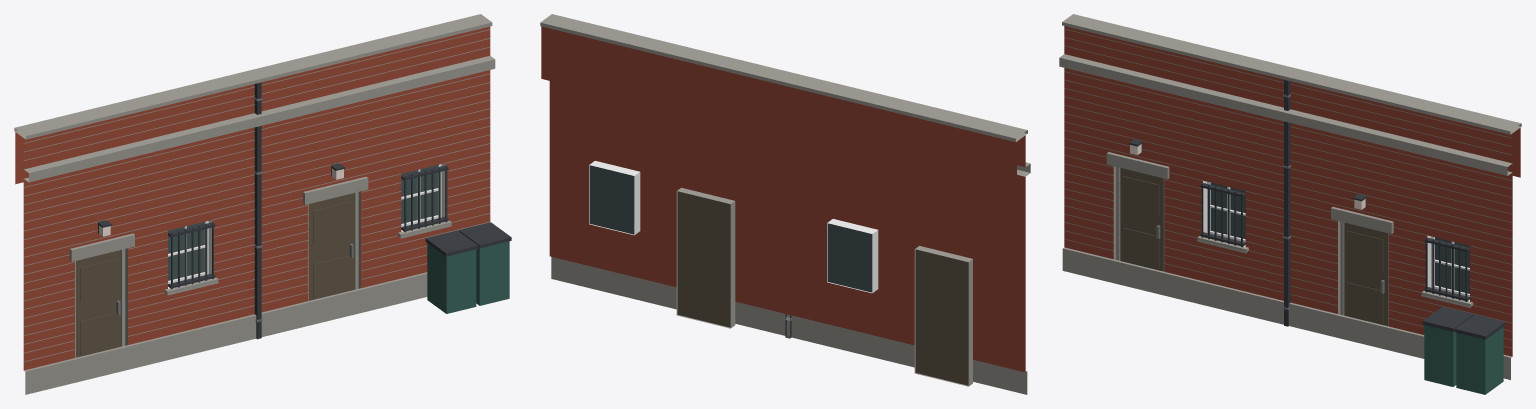
The model's file is base-w3_close.fbx.
3 renders of one model, left to right at view 1: azimuth 30°, elevation 25°; view 2: azimuth 150°, elevation 25°; view 3: azimuth 330°, elevation 25°, orthographic. The views are drawn at different scales.
Parts seen in each view (by area): view 1: a2003/700/base-w3_close; view 2: a2003/700/base-w3_close; view 3: a2003/700/base-w3_close.
Part boxes in pixels (<box>): a2003/700/base-w3_close: <box>14,14,511,394</box>; a2003/700/base-w3_close: <box>540,14,1030,394</box>; a2003/700/base-w3_close: <box>1059,14,1521,394</box>.
Size of the model in its own units: 8.4 by 4.46 by 1.06.
